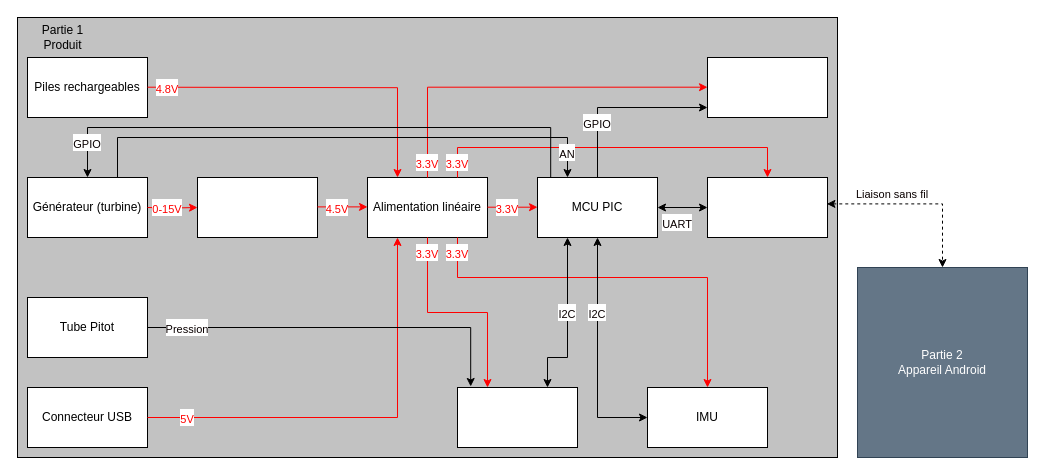
This 1045x475 diagram has some shape labels left out. Here are the shapes that lost their labels. From the top down, the box of each, then its label:
(706, 56, 828, 118): LED de signalisation
(196, 176, 318, 238): Alimentation Buck
(706, 176, 828, 238): Module Bluetooth
(456, 386, 578, 448): Capteurs pressions différentielles
